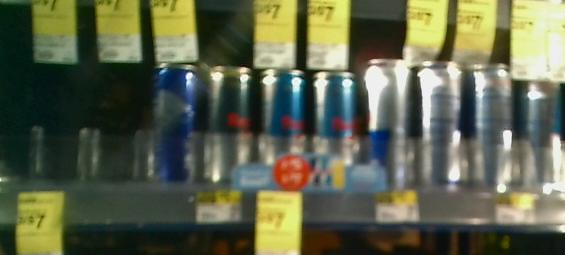bottle: (149, 55, 201, 191), (364, 57, 414, 188), (418, 57, 466, 190), (308, 69, 360, 191), (203, 53, 251, 184), (518, 60, 564, 194), (255, 64, 304, 189), (469, 61, 514, 191)
